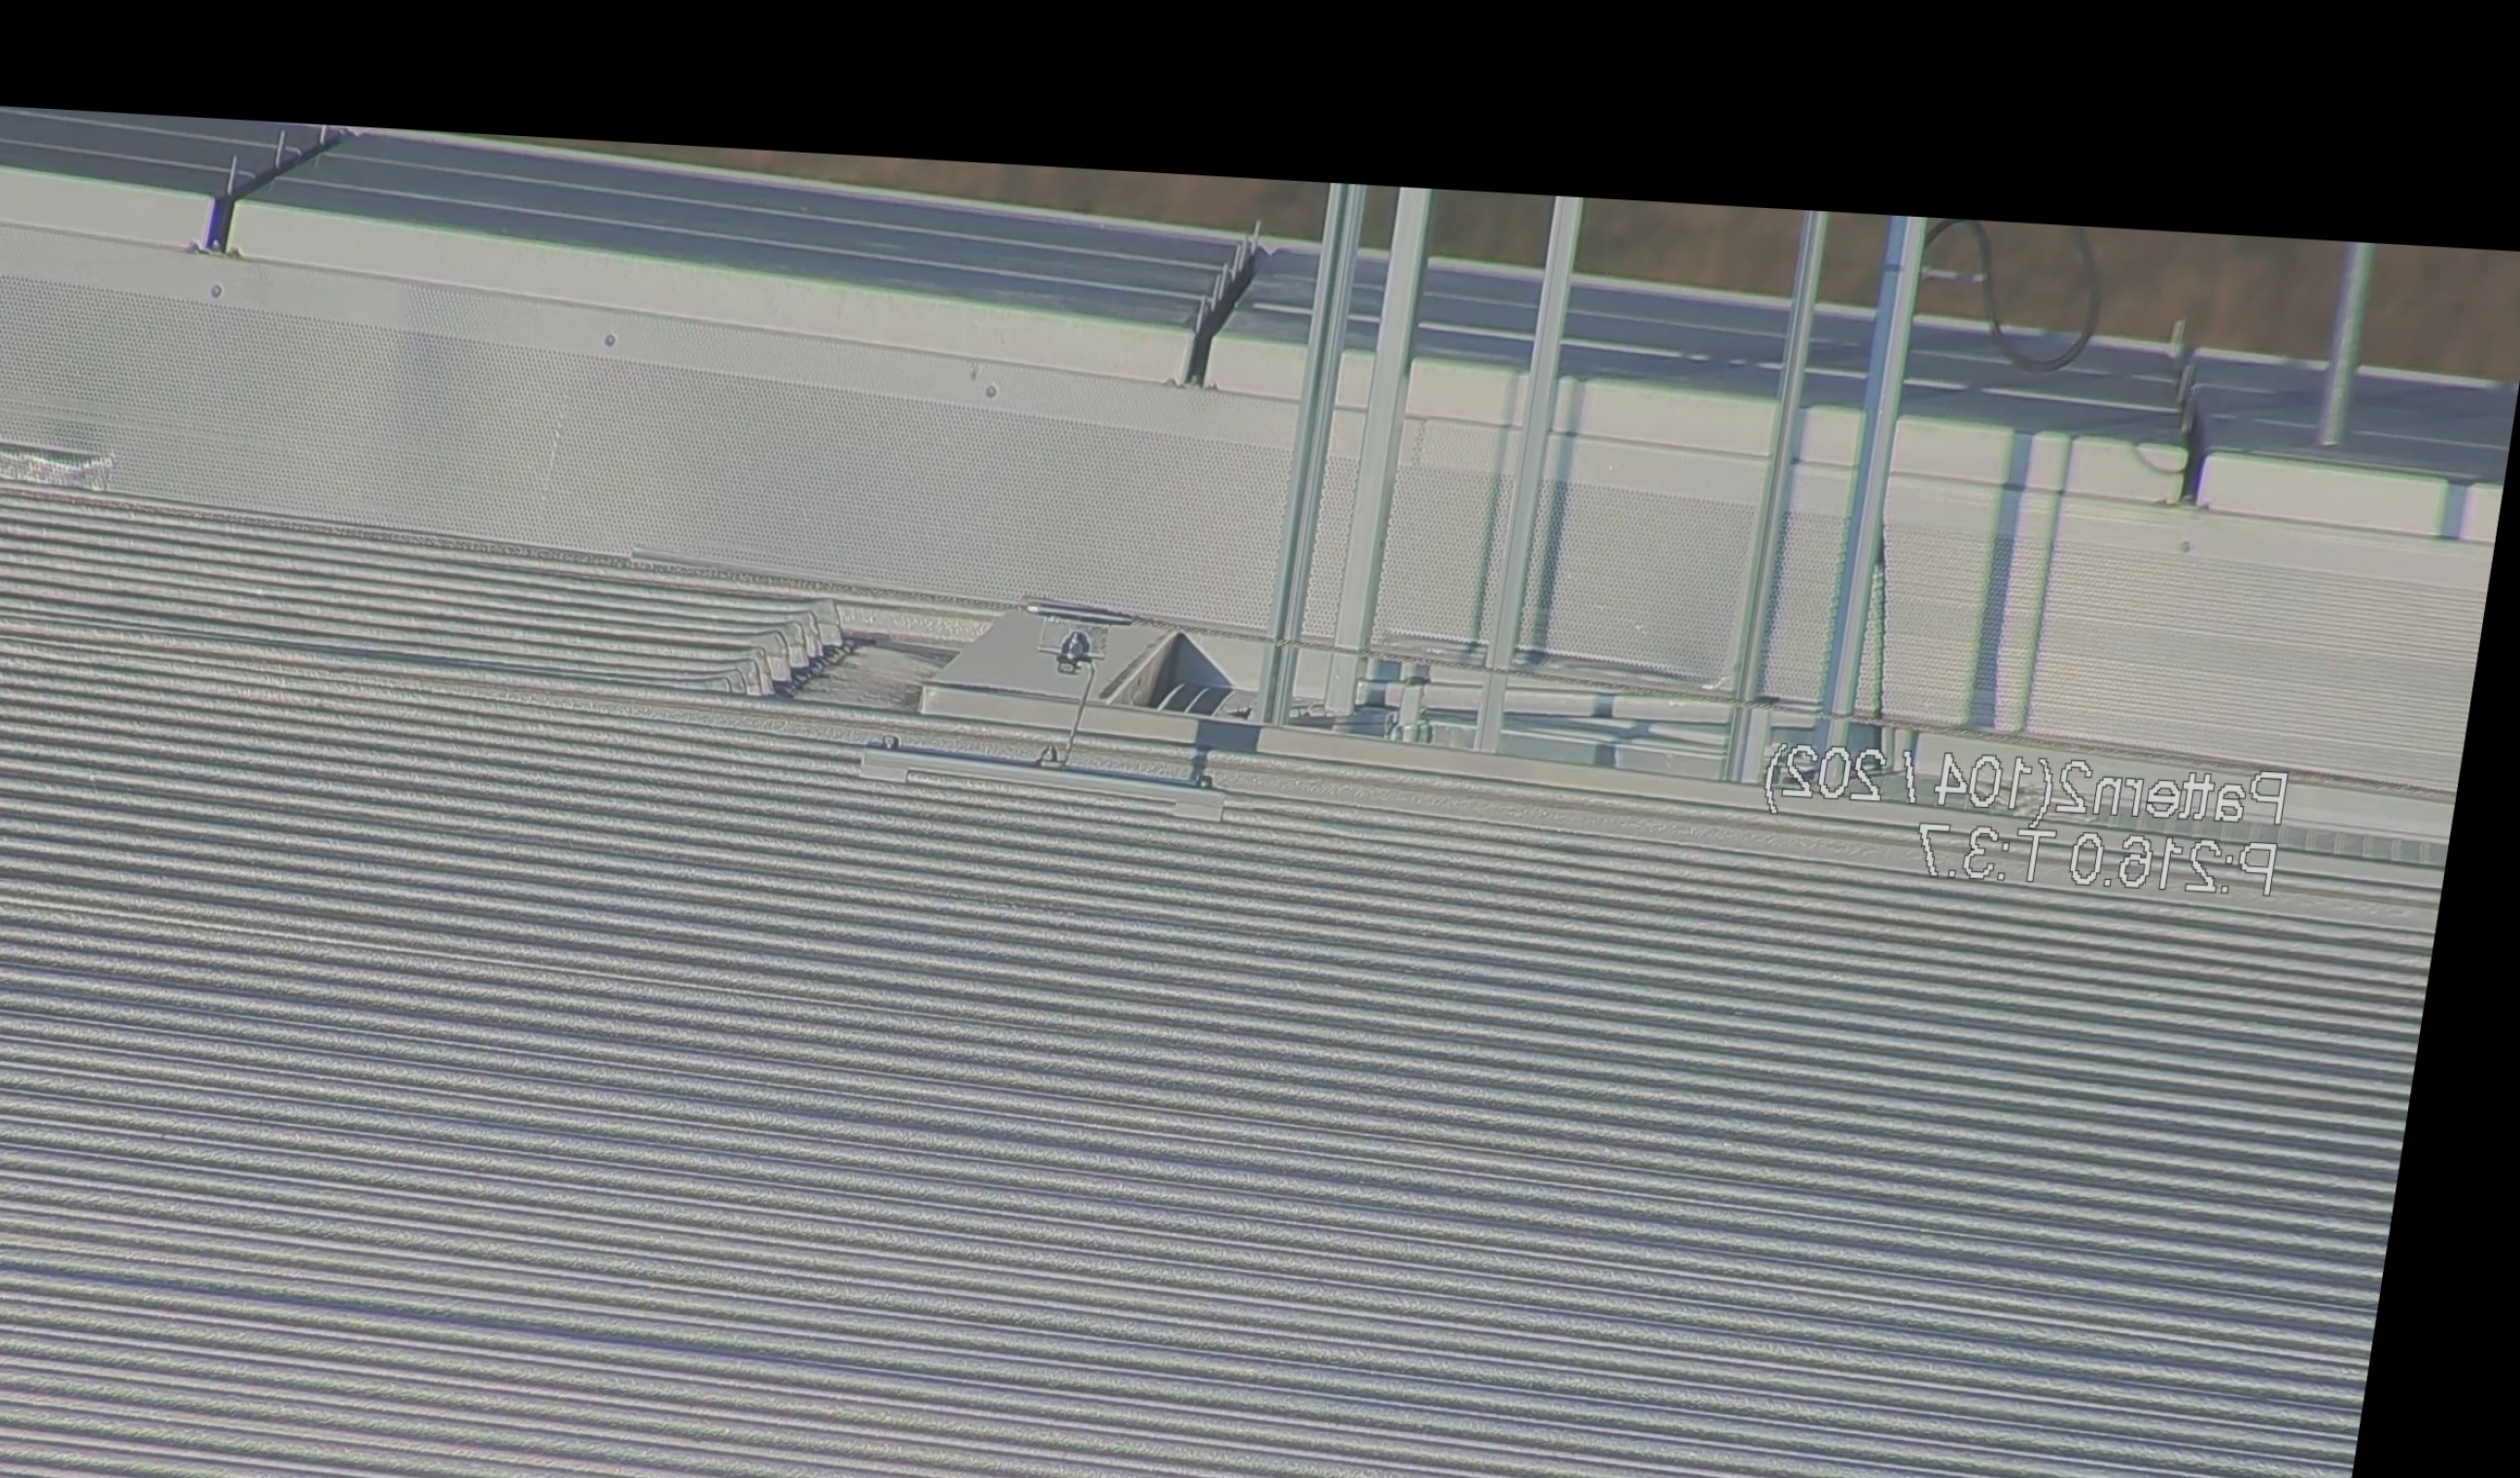Other: (1154, 199, 1289, 398)
